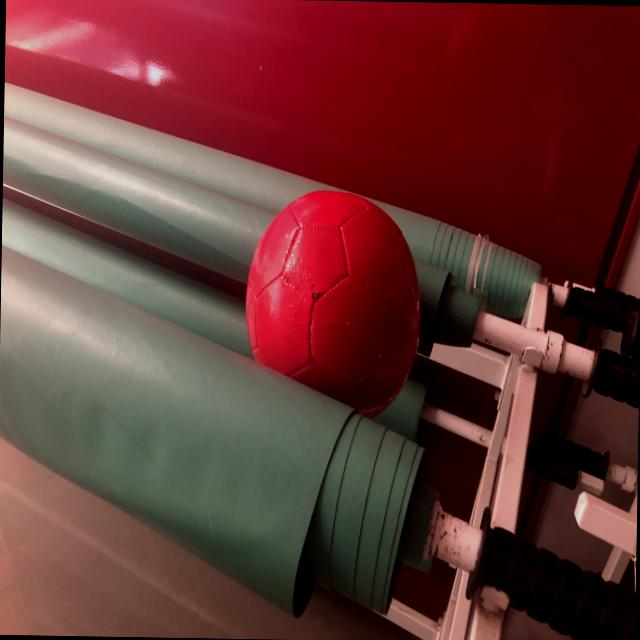red_ball: (245, 186, 424, 420)
